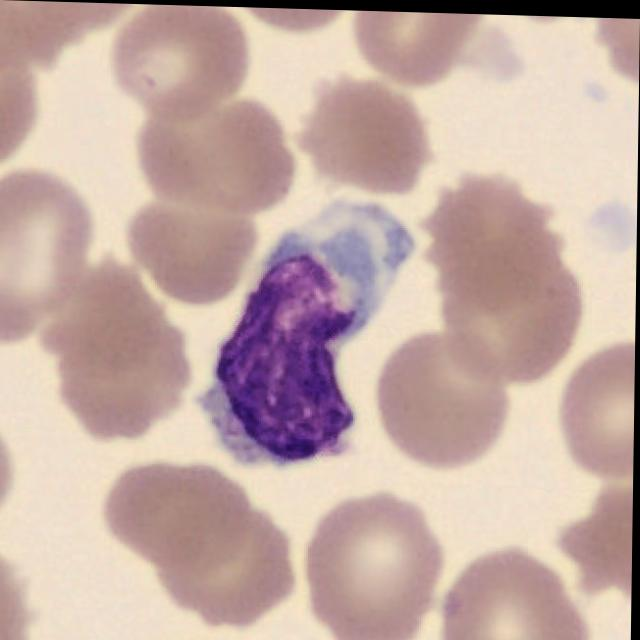Linfocito: (216, 191, 417, 461)
